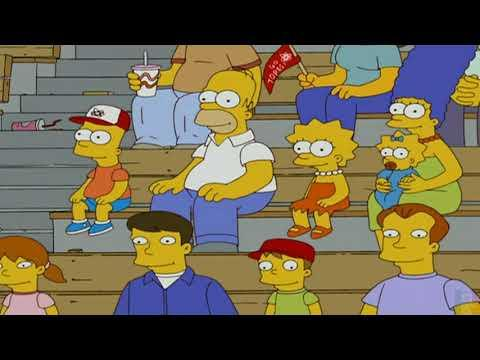Bart: (57, 100, 147, 251)
Homer: (149, 62, 291, 263)
Lisa: (271, 117, 369, 241)
Maggie: (363, 133, 424, 211)
Marge: (365, 43, 468, 250)
